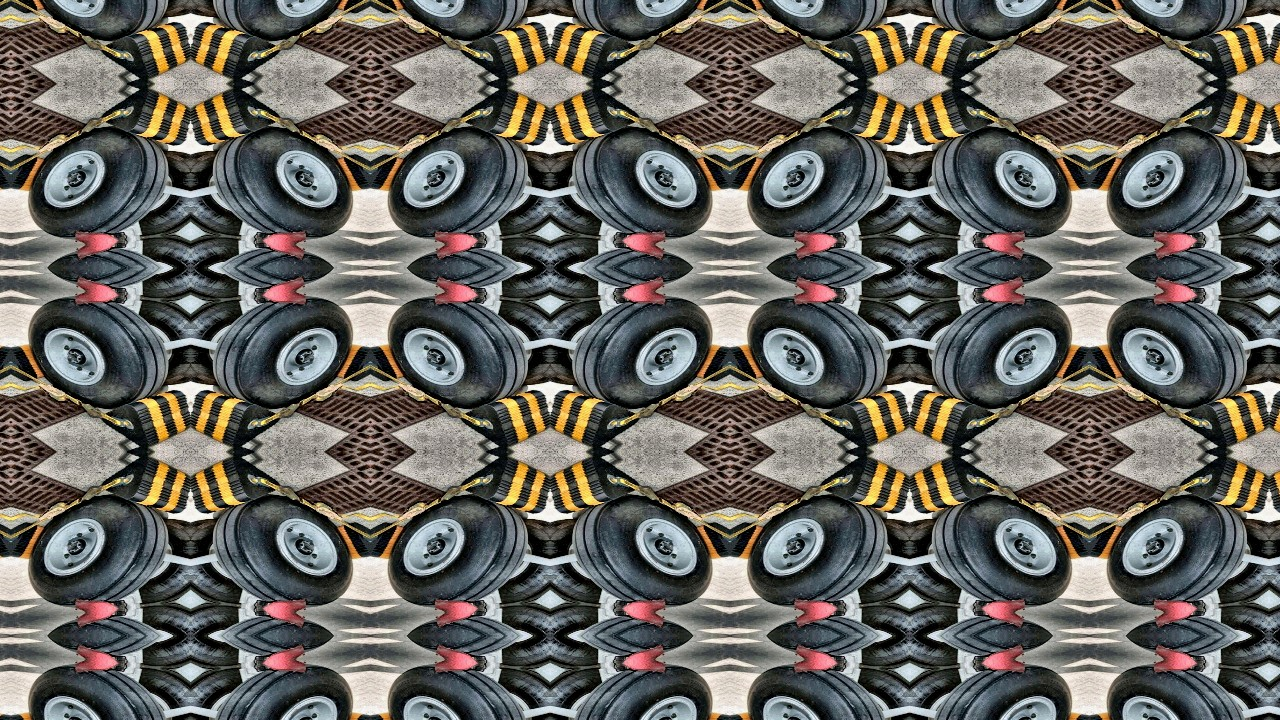chock: (97, 13, 190, 84), (190, 13, 283, 84), (457, 13, 550, 84), (550, 13, 643, 84), (817, 13, 910, 84), (910, 13, 1003, 84), (1177, 13, 1270, 84), (97, 84, 190, 154), (190, 84, 283, 154), (457, 84, 550, 154), (550, 84, 643, 154), (817, 84, 910, 154), (910, 84, 1003, 154), (1177, 84, 1270, 154), (97, 382, 190, 452), (190, 382, 283, 452), (457, 382, 550, 452), (550, 382, 643, 452), (817, 382, 910, 452), (910, 382, 1003, 452), (1177, 382, 1270, 452), (97, 452, 190, 522), (190, 452, 283, 522), (457, 452, 550, 522), (550, 452, 643, 522), (817, 452, 910, 522), (910, 452, 1003, 522), (1177, 452, 1270, 522), (10, 150, 58, 195), (322, 150, 370, 195), (370, 150, 418, 195), (682, 150, 730, 195), (730, 150, 778, 195), (1042, 150, 1090, 195), (1090, 150, 1138, 195), (10, 341, 58, 385), (322, 341, 370, 385), (370, 341, 418, 385), (682, 341, 730, 385), (730, 341, 778, 385), (1042, 341, 1090, 385), (1090, 341, 1138, 385), (10, 519, 58, 563), (322, 519, 370, 563), (370, 519, 418, 563), (682, 519, 730, 563), (730, 519, 778, 563), (1042, 519, 1090, 563), (1090, 519, 1138, 563), (10, 0, 58, 17), (322, 0, 370, 17), (370, 0, 418, 17), (682, 0, 730, 17), (730, 0, 778, 17), (1042, 0, 1090, 17), (1090, 0, 1138, 17), (1270, 13, 1280, 84), (1270, 84, 1280, 154), (1270, 382, 1280, 452), (1270, 452, 1280, 522), (10, 709, 58, 720), (322, 709, 370, 720), (370, 709, 418, 720), (682, 709, 730, 720), (730, 709, 778, 720), (1042, 709, 1090, 720), (1090, 709, 1138, 720), (0, 150, 10, 195), (0, 341, 10, 385), (0, 519, 10, 563), (0, 0, 10, 17), (0, 709, 10, 720)
wheel: (19, 290, 172, 413), (208, 290, 361, 413), (379, 290, 532, 413), (568, 290, 721, 413), (739, 290, 892, 413), (928, 290, 1081, 413), (1099, 290, 1252, 413), (19, 491, 172, 614), (208, 491, 361, 614), (379, 491, 532, 614), (568, 491, 721, 614), (739, 491, 892, 614), (928, 491, 1081, 614), (1099, 491, 1252, 614), (19, 123, 172, 245), (208, 123, 361, 245), (379, 123, 532, 245), (568, 123, 721, 245), (739, 123, 892, 245), (928, 123, 1081, 245), (1099, 123, 1252, 245), (19, 659, 172, 720), (208, 659, 361, 720), (379, 659, 532, 720), (568, 659, 721, 720), (739, 659, 892, 720), (928, 659, 1081, 720), (1099, 659, 1252, 720), (19, 0, 172, 44), (208, 0, 361, 44), (379, 0, 532, 44), (568, 0, 721, 44), (739, 0, 892, 44), (928, 0, 1081, 44), (1099, 0, 1252, 44), (131, 147, 190, 236), (190, 147, 249, 236), (491, 147, 550, 236), (550, 147, 609, 236), (851, 147, 910, 236), (910, 147, 969, 236), (1211, 147, 1270, 236), (131, 299, 190, 388), (190, 299, 249, 388), (491, 299, 550, 388), (550, 299, 609, 388), (851, 299, 910, 388), (910, 299, 969, 388), (1211, 299, 1270, 388), (131, 516, 190, 605), (190, 516, 249, 605), (491, 516, 550, 605), (550, 516, 609, 605), (851, 516, 910, 605), (910, 516, 969, 605), (1211, 516, 1270, 605), (131, 668, 190, 720), (190, 668, 249, 720), (491, 668, 550, 720), (550, 668, 609, 720), (851, 668, 910, 720), (910, 668, 969, 720), (1211, 668, 1270, 720), (131, 0, 190, 20), (190, 0, 249, 20), (491, 0, 550, 20), (550, 0, 609, 20), (851, 0, 910, 20), (910, 0, 969, 20), (1211, 0, 1270, 20), (1270, 147, 1280, 236), (1270, 299, 1280, 388), (1270, 516, 1280, 605), (1270, 668, 1280, 720)
